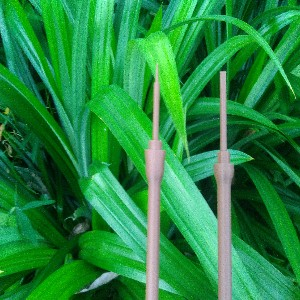obeng: (212, 71, 235, 300)
solder: (144, 60, 167, 300)
